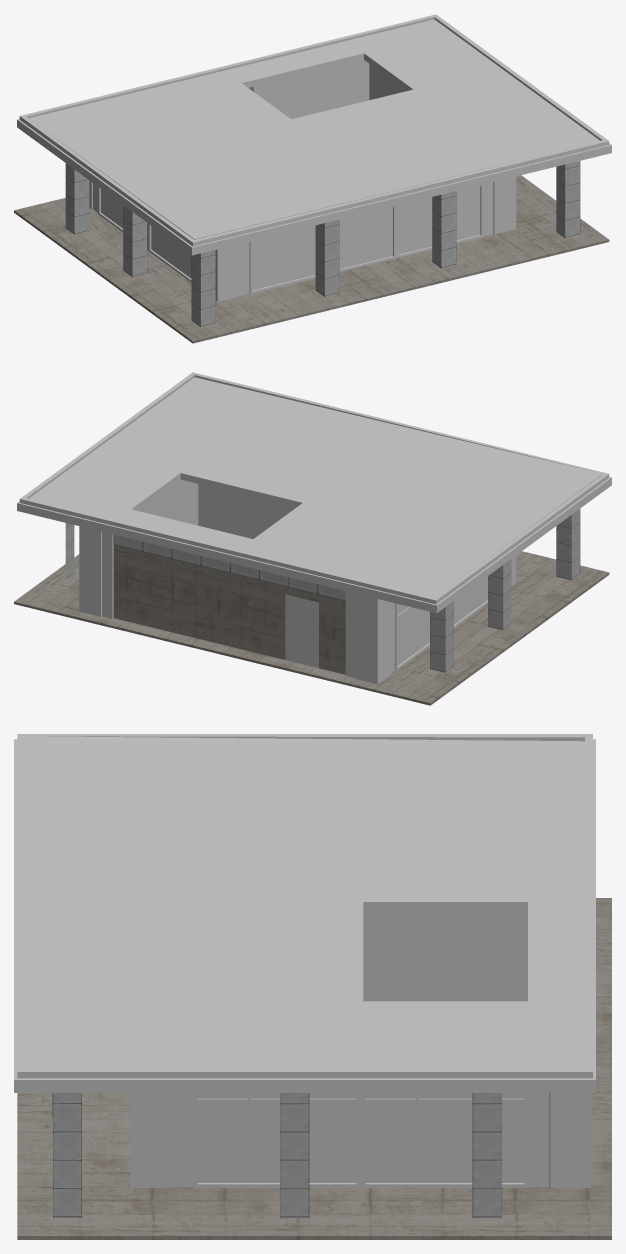
The model's file is Ruin2A_LOD1.fbx.
3 renders of one model, top to bottom at view 1: azimuth 30°, elevation 25°; view 2: azimuth 150°, elevation 25°; view 3: azimuth 270°, elevation 25°, orthographic. The views are drawn at different scales.
Parts seen in each view (by area): view 1: polySurface359; view 2: polySurface359; view 3: polySurface359.
Boxes of the visible parts, x1=… form: polySurface359: x1=14, y1=14, x2=611, y2=343; polySurface359: x1=14, y1=372, x2=611, y2=705; polySurface359: x1=14, y1=734, x2=611, y2=1239.
Size of the model in its own units: 14.4 by 3.33 by 10.68.
